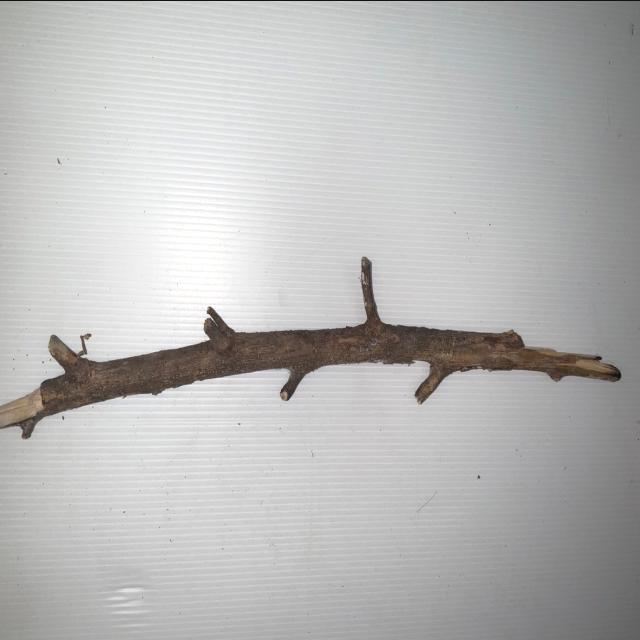Sharps: (2, 255, 623, 439)
